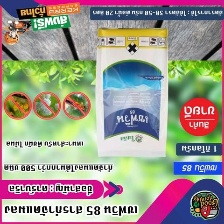insecticide: (93, 23, 175, 161)
